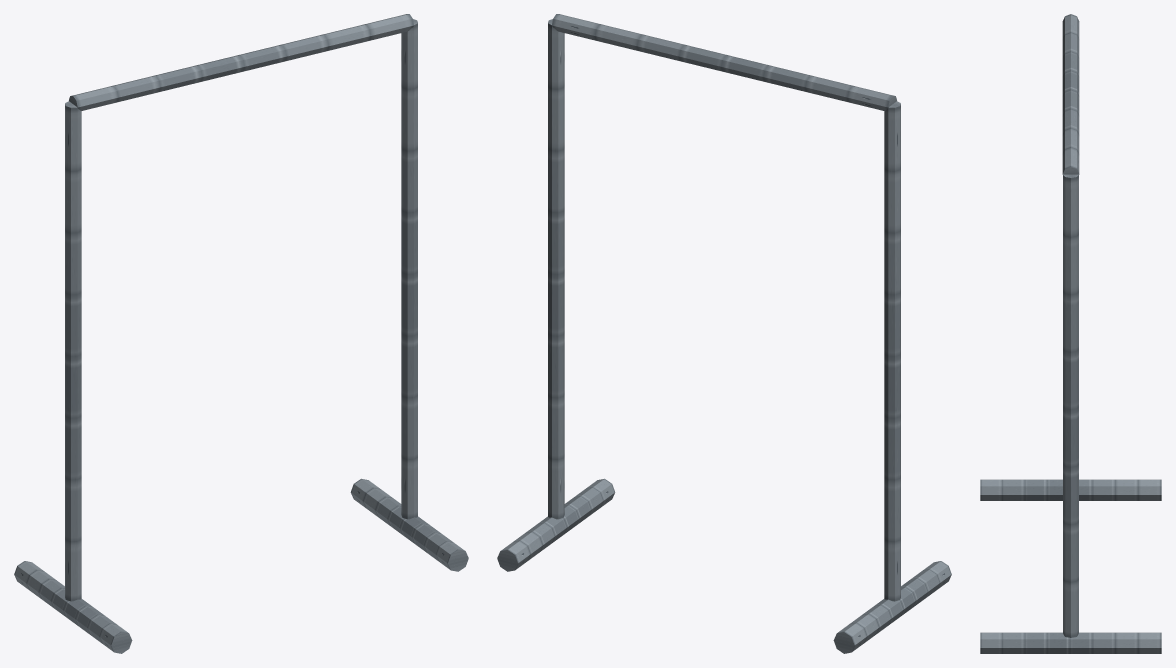
The model's file is MD_85_ClothesRack.fbx.
3 renders of one model, left to right at view 1: azimuth 30°, elevation 25°; view 2: azimuth 150°, elevation 25°; view 3: azimuth 270°, elevation 25°, orthographic. The views are drawn at different scales.
Parts seen in each view (by area): view 1: MD_85_ClothesRack_rack_post, MD_85_ClothesRack_rack_post.001, MD_85_ClothesRack_clothes_rail, MD_85_ClothesRack_rack_foot.001, MD_85_ClothesRack_rack_foot; view 2: MD_85_ClothesRack_rack_post, MD_85_ClothesRack_rack_post.001, MD_85_ClothesRack_clothes_rail, MD_85_ClothesRack_rack_foot.001, MD_85_ClothesRack_rack_foot; view 3: MD_85_ClothesRack_rack_post.001, MD_85_ClothesRack_rack_foot.001, MD_85_ClothesRack_rack_foot, MD_85_ClothesRack_clothes_rail.
Part boxes in pixels (x1,y1,x2,y2): MD_85_ClothesRack_rack_post: (65, 101, 81, 601); MD_85_ClothesRack_rack_post.001: (401, 19, 417, 519); MD_85_ClothesRack_clothes_rail: (69, 14, 414, 111); MD_85_ClothesRack_rack_foot.001: (350, 478, 468, 571); MD_85_ClothesRack_rack_foot: (14, 561, 132, 653); MD_85_ClothesRack_rack_post: (884, 101, 900, 601); MD_85_ClothesRack_rack_post.001: (548, 19, 564, 519); MD_85_ClothesRack_clothes_rail: (551, 14, 896, 111); MD_85_ClothesRack_rack_foot.001: (497, 478, 615, 571); MD_85_ClothesRack_rack_foot: (833, 561, 951, 653); MD_85_ClothesRack_rack_post.001: (1063, 174, 1078, 637); MD_85_ClothesRack_rack_foot.001: (980, 632, 1161, 653); MD_85_ClothesRack_rack_foot: (980, 479, 1161, 500); MD_85_ClothesRack_clothes_rail: (1062, 14, 1079, 174).
Bounding box in the file's own units: 1.19 × 1.66 × 0.56.
Materials: 1 (1 with a texture image).
